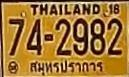2: (106, 18, 122, 54), (56, 18, 70, 55)
4: (26, 18, 41, 54)
7: (8, 18, 24, 55)
8: (90, 18, 104, 54)
9: (72, 18, 88, 54)
SPK: (29, 59, 105, 77)
